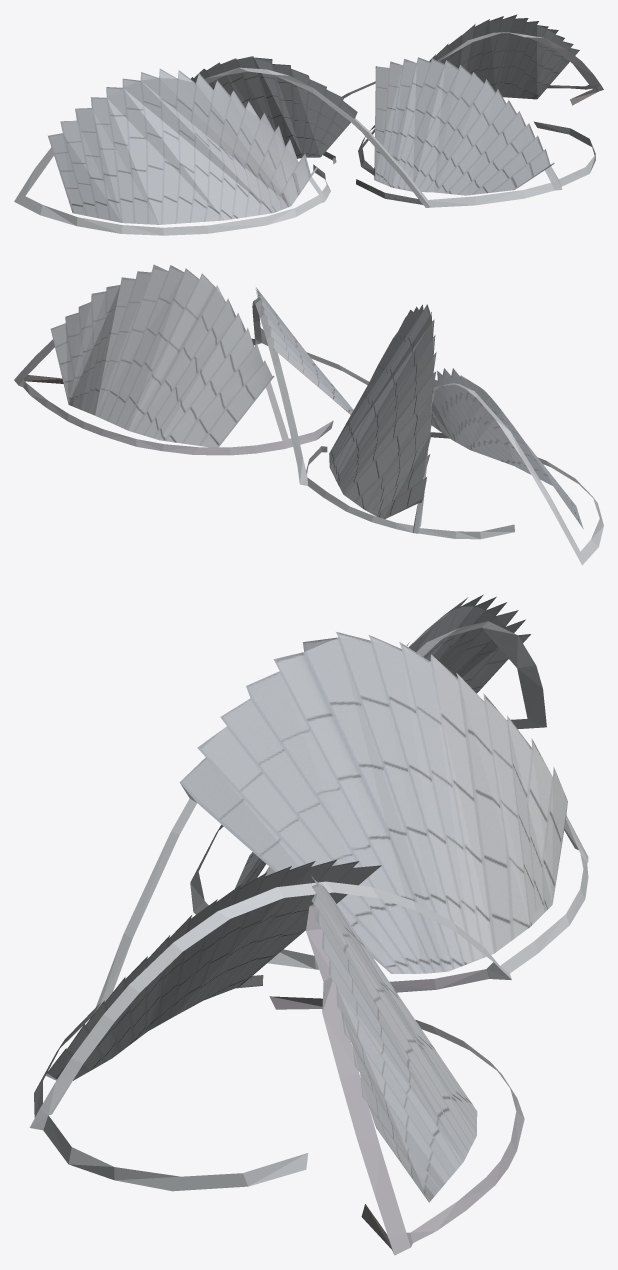
File: 119_LOCATED.glb
The picture shows the model from 3 angles, top to bottom: view 1: azimuth 30°, elevation 25°; view 2: azimuth 150°, elevation 25°; view 3: azimuth 270°, elevation 25°; orthographic projection. The views are drawn at different scales.
Visible parts, largest first — view 1: 119.001; view 2: 119.001; view 3: 119.001.
Part boxes in pixels (x1=…): 119.001: x1=14, y1=14, x2=603, y2=235; 119.001: x1=14, y1=264, x2=603, y2=565; 119.001: x1=29, y1=594, x2=588, y2=1255.
Bounding box in the file's own units: 103 × 25.13 × 45.28.
Materials: 1 (1 with a texture image).
